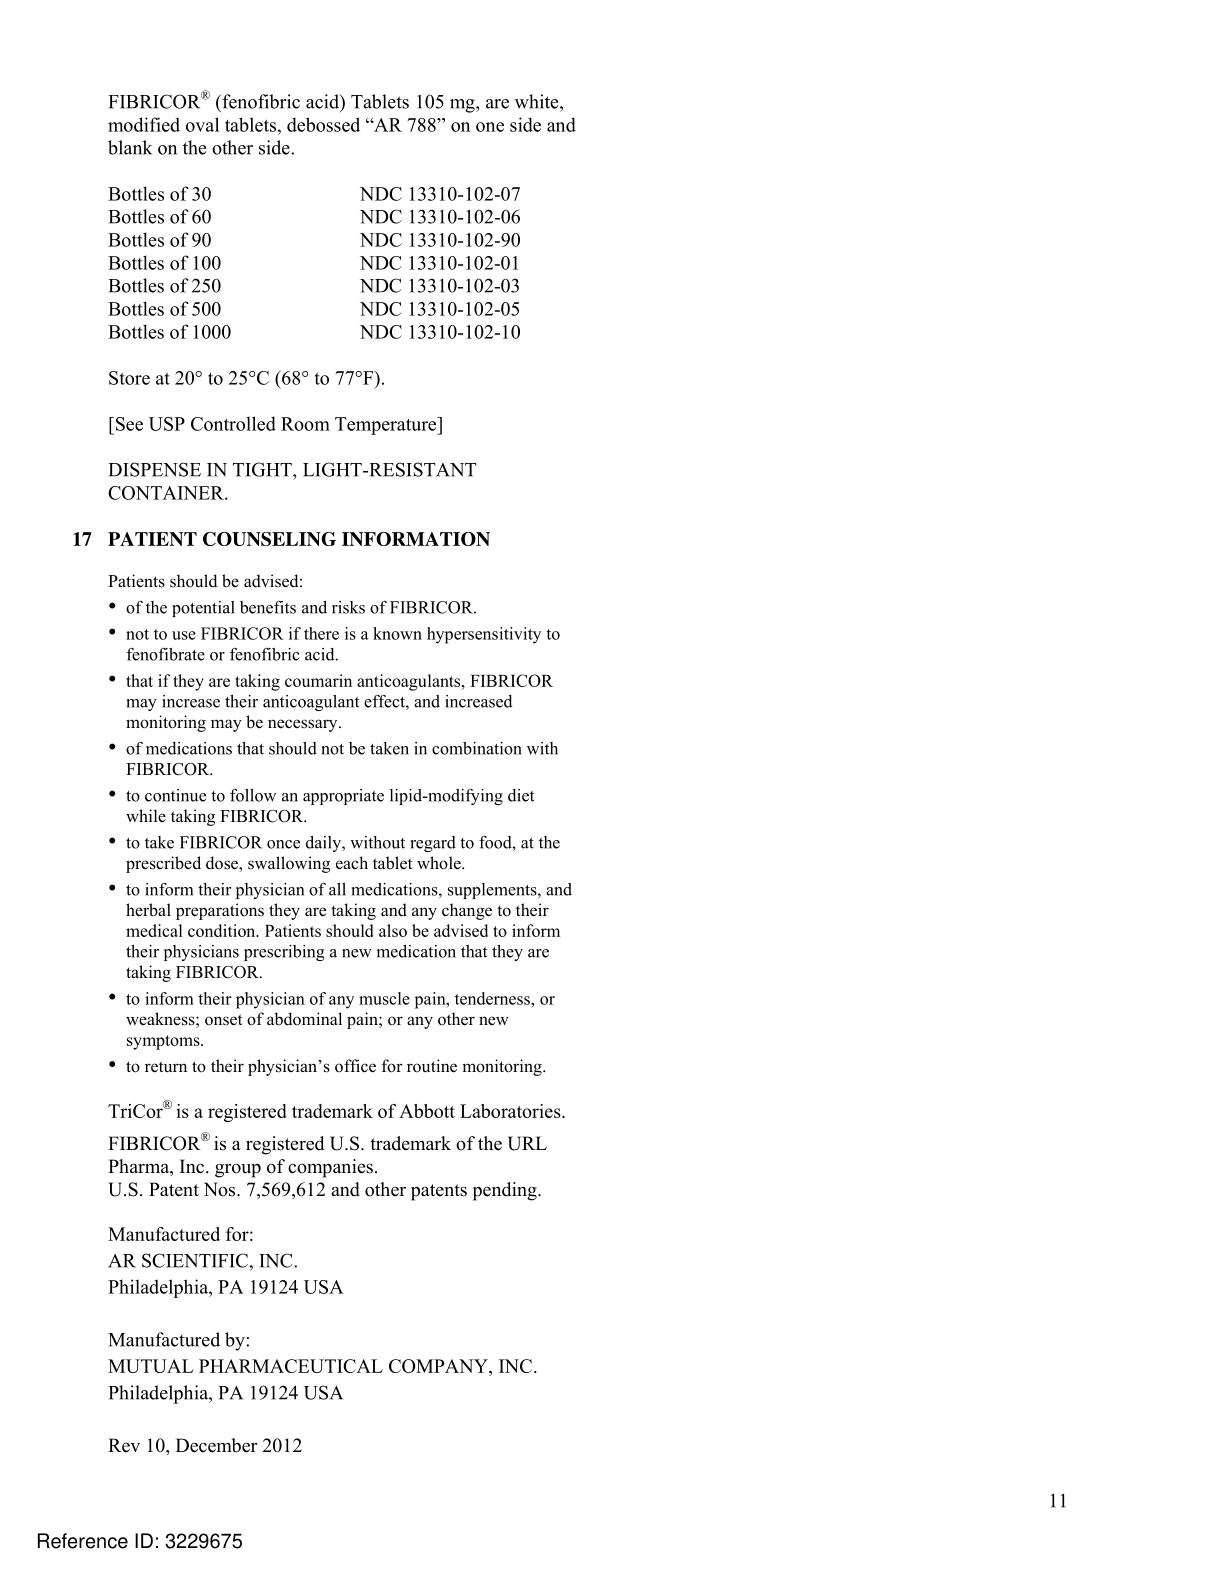nolines: (105, 183, 526, 345)
